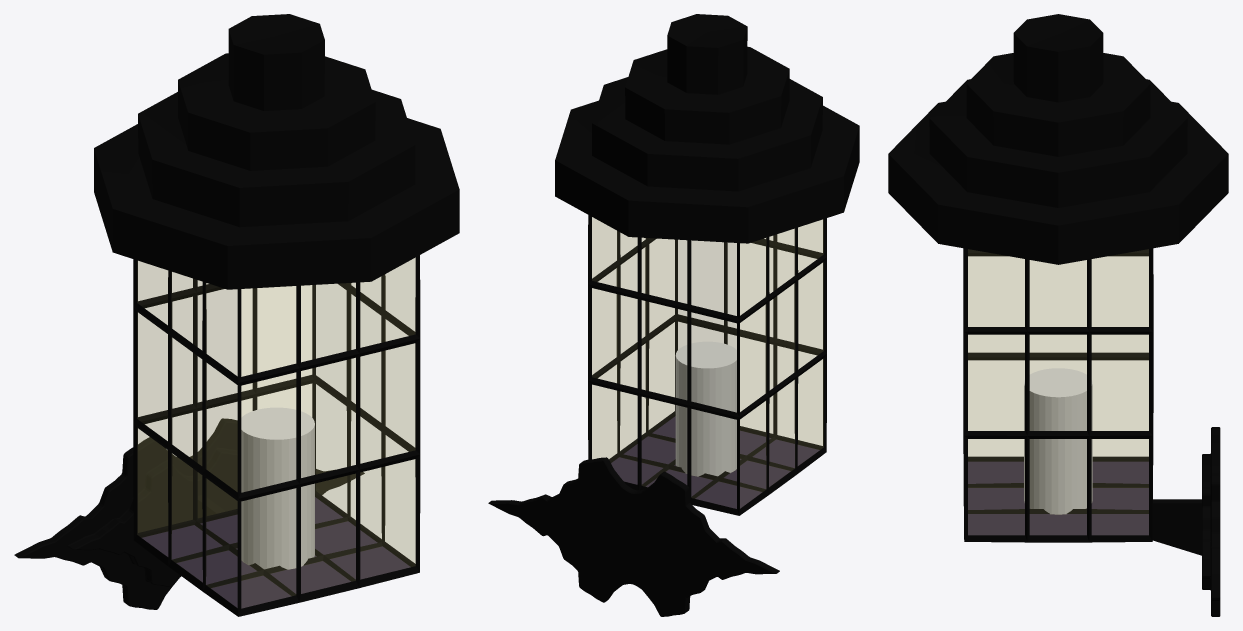
The model's file is faro.glb.
3 views of the same model, side by side, from view 1: azimuth 30°, elevation 25°; view 2: azimuth 150°, elevation 25°; view 3: azimuth 270°, elevation 25° (orthographic). The views are drawn at different scales.
Parts seen in each view (by area): view 1: Cube.006, Cube.003, Cube.002, Cube.004, Cylinder.276, Plane; view 2: Cube.006, Cube.003, Cube.004, Cube.002, Cylinder.276, Plane; view 3: Cube.003, Cube.006, Cube.002, Plane, Cylinder.276, Cube.004, Cube.005.
Boxes of the visible parts, x1,y1,x2,y2 form: Cube.006: (137,258,415,608); Cube.003: (94,14,459,289); Cube.002: (133,255,420,616); Cube.004: (14,418,364,609); Cylinder.276: (241,407,314,569); Plane: (142,497,410,608); Cube.006: (592,217,823,508); Cube.003: (555,14,859,243); Cube.004: (488,457,779,616); Cube.002: (588,215,826,515); Cylinder.276: (675,341,736,476); Plane: (611,416,819,508); Cube.003: (888,14,1228,264); Cube.006: (968,249,1148,534); Cube.002: (963,248,1153,542); Plane: (968,461,1148,535); Cylinder.276: (1024,368,1092,514); Cube.004: (1202,427,1220,616); Cube.005: (1152,499,1201,555).
Size of the model in its own units: 16.58 by 28.8 by 15.7.
